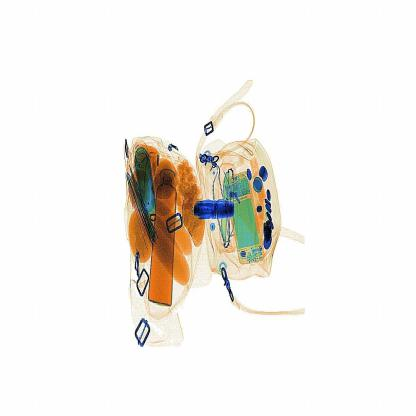scissors: (191, 193, 245, 225)
